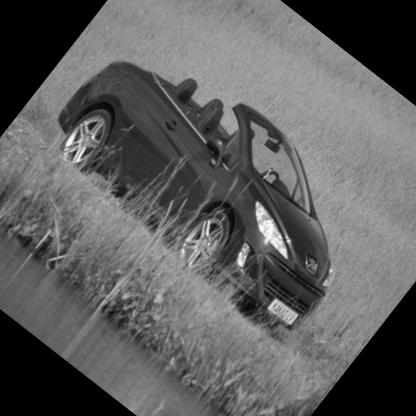car: (14, 1, 416, 368)
